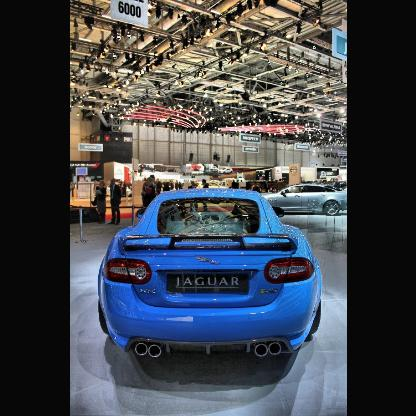Jaguar XK XKR 2012: (99, 190, 321, 389)
